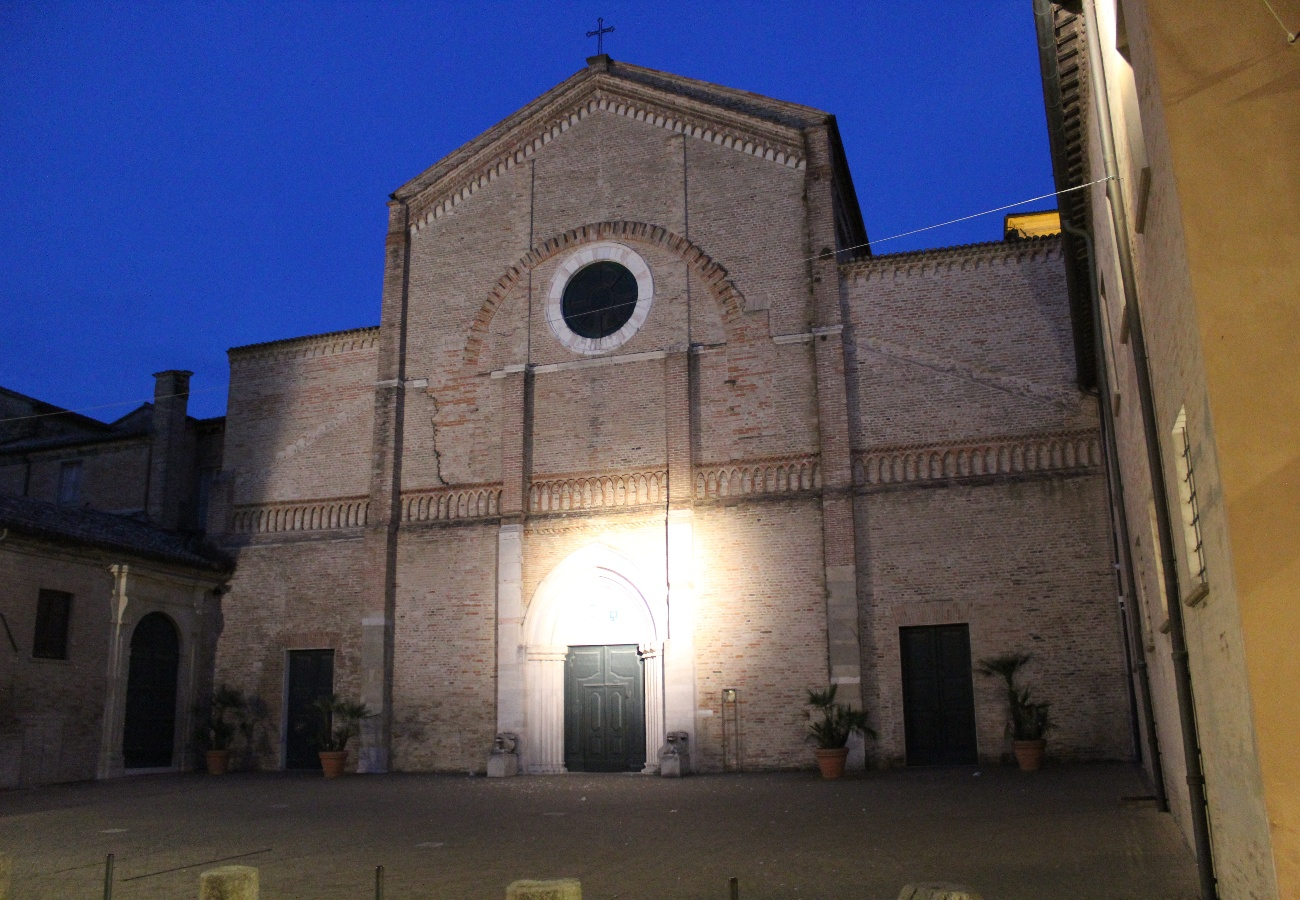Cattedrale Santa Maria Assunta: (223, 56, 1063, 780)
